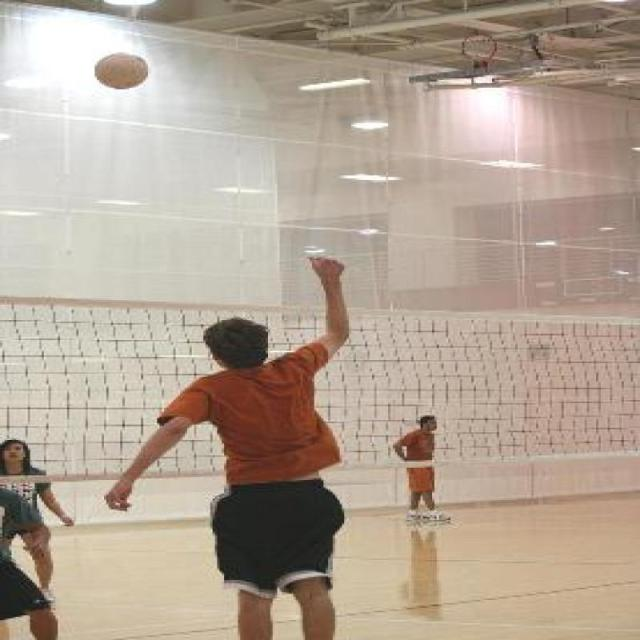volleyball: (92, 49, 150, 91)
